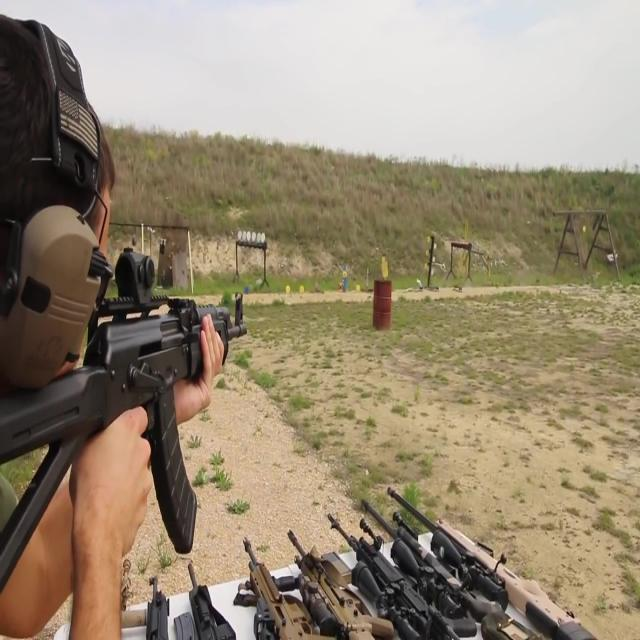Weapon: (85, 439, 606, 640), (0, 257, 270, 562)
